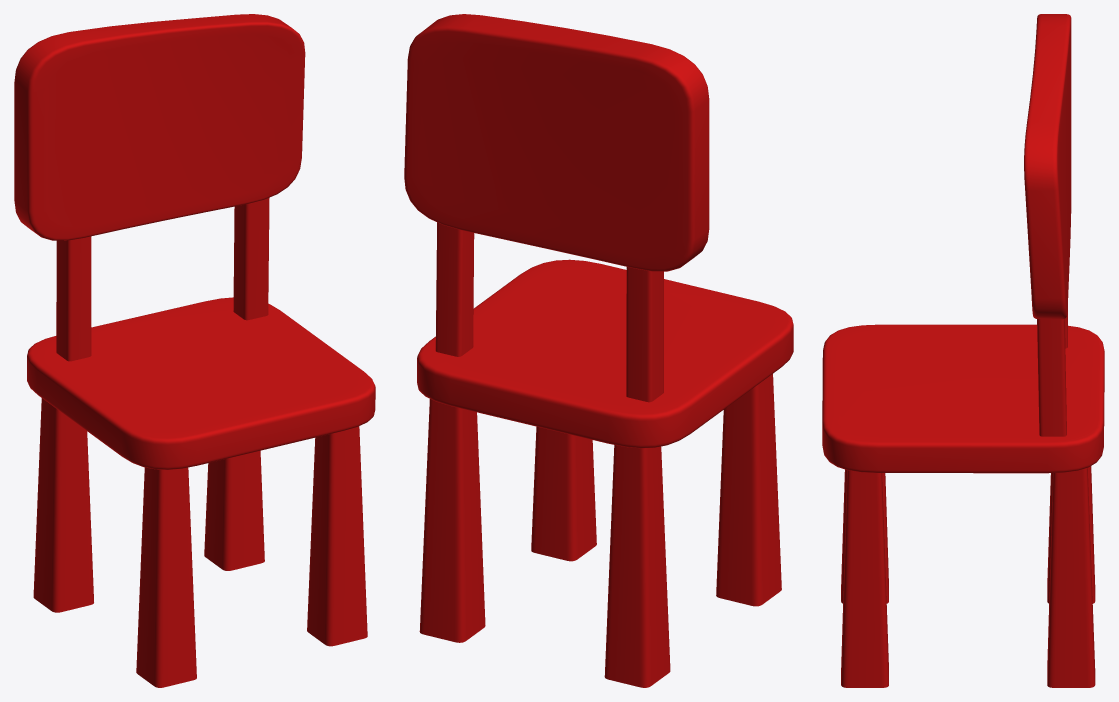
Rendered from Red_Chair.fbx.
The picture shows the model from 3 angles, left to right: view 1: azimuth 30°, elevation 25°; view 2: azimuth 150°, elevation 25°; view 3: azimuth 270°, elevation 25°; orthographic projection. The views are drawn at different scales.
Parts seen in each view (by area): view 1: Play_Chair005; view 2: Play_Chair005; view 3: Play_Chair005.
Boxes of the visible parts, x1,y1,x2,y2 form: Play_Chair005: [14, 14, 375, 687]; Play_Chair005: [404, 14, 793, 687]; Play_Chair005: [822, 14, 1104, 687].
Size of the model in its own units: 11.86 by 23.81 by 10.68.
